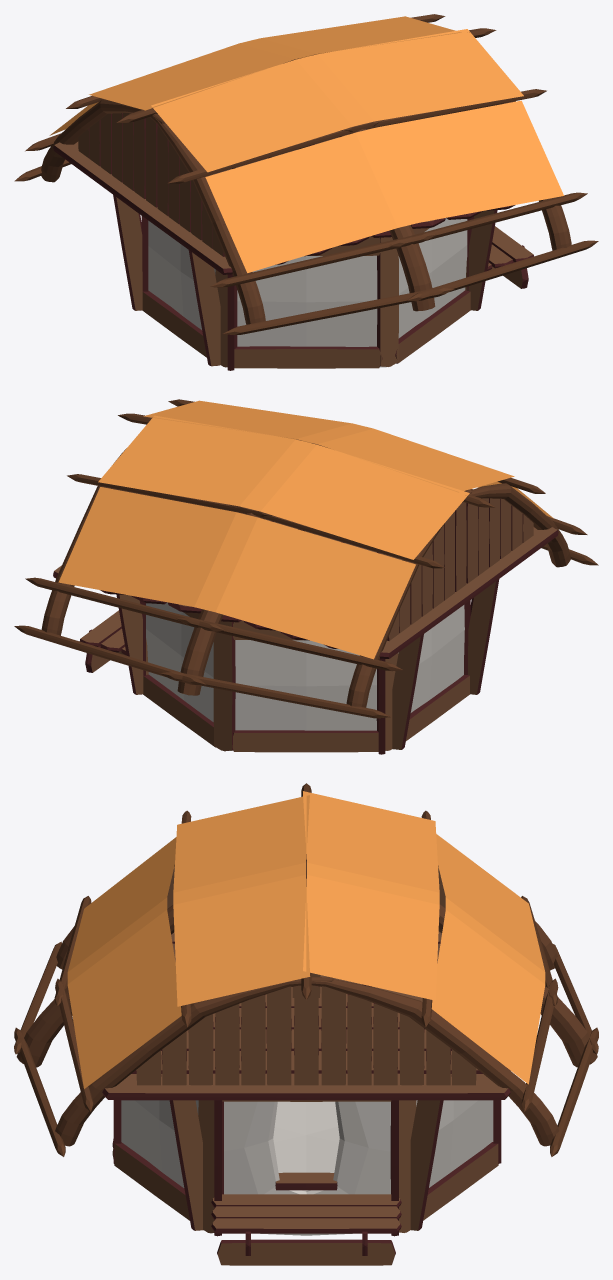
Rendered from house2.fbx.
3 renders of one model, top to bottom at view 1: azimuth 30°, elevation 25°; view 2: azimuth 150°, elevation 25°; view 3: azimuth 270°, elevation 25°, orthographic. The views are drawn at different scales.
Visible parts, largest first — view 1: Plane.003, Plane.002, Cylinder, Plane, Cylinder.013, Cylinder.137, Cylinder.027, Cylinder.143, Cylinder.146, Cylinder.147, Cylinder.042, Cylinder.046 (+24 smaller); view 2: Plane.001, Plane, Cylinder, Plane.002, Cylinder.017, Cylinder.137, Cylinder.001, Cylinder.147, Cylinder.146, Cylinder.037, Cylinder.027, Cylinder.041 (+22 smaller); view 3: Plane.002, Plane, Cylinder, Plane.003, Plane.001, Cylinder.136, Cylinder.028, Cylinder.010, Cylinder.025, Cylinder.007, Cylinder.151, Cylinder.142 (+33 smaller).
Boxes of the visible parts, bbox=[...] form: Plane.003: bbox=[205, 100, 563, 272]; Plane.002: bbox=[151, 29, 523, 172]; Cylinder: bbox=[148, 218, 467, 367]; Plane: bbox=[89, 16, 461, 110]; Cylinder.013: bbox=[234, 346, 382, 368]; Cylinder.137: bbox=[53, 141, 232, 274]; Cylinder.027: bbox=[150, 116, 265, 324]; Cylinder.143: bbox=[377, 237, 398, 366]; Cylinder.146: bbox=[188, 250, 220, 366]; Cylinder.147: bbox=[113, 195, 142, 310]; Cylinder.042: bbox=[223, 288, 454, 334]; Cylinder.046: bbox=[210, 233, 436, 287]; Plane.001: bbox=[58, 487, 415, 659]; Plane: bbox=[98, 415, 469, 559]; Cylinder: bbox=[146, 602, 464, 750]; Plane.002: bbox=[143, 400, 514, 492]; Cylinder.017: bbox=[232, 730, 378, 752]; Cylinder.137: bbox=[379, 527, 558, 658]; Cylinder.001: bbox=[213, 621, 235, 751]; Cylinder.147: bbox=[392, 634, 423, 749]; Cylinder.146: bbox=[468, 579, 499, 694]; Cylinder.037: bbox=[159, 672, 390, 718]; Cylinder.027: bbox=[462, 483, 570, 567]; Cylinder.041: bbox=[176, 617, 402, 671]; Plane.002: bbox=[173, 795, 310, 1006]; Plane: bbox=[303, 791, 439, 1000]; Cylinder: bbox=[121, 1100, 493, 1235]; Plane.003: bbox=[67, 837, 181, 1088]; Plane.001: bbox=[431, 834, 545, 1084]; Cylinder.136: bbox=[102, 1073, 510, 1100]; Cylinder.028: bbox=[292, 979, 559, 1146]; Cylinder.010: bbox=[217, 1239, 395, 1265]; Cylinder.025: bbox=[55, 977, 333, 1146]; Cylinder.007: bbox=[211, 1218, 401, 1233]; Cylinder.151: bbox=[410, 1100, 443, 1230]; Cylinder.142: bbox=[169, 1100, 203, 1230].
Size of the model in its own units: 825 by 524 by 929.
